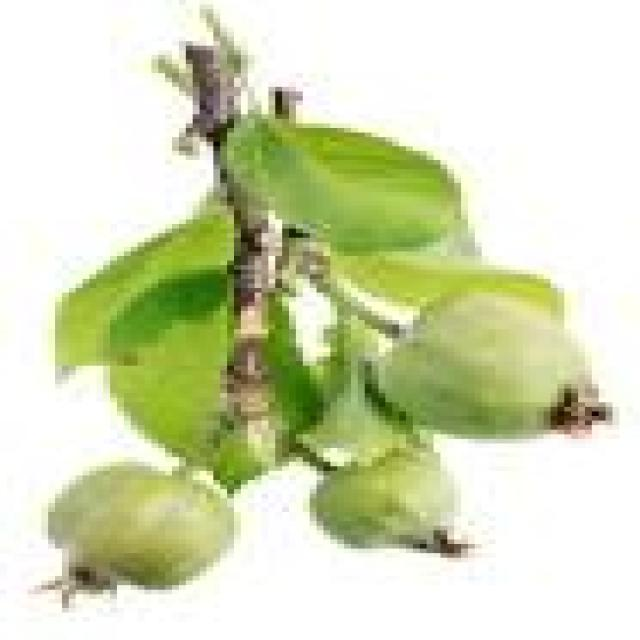apple: (372, 293, 599, 434), (48, 462, 227, 594), (310, 448, 461, 549)
